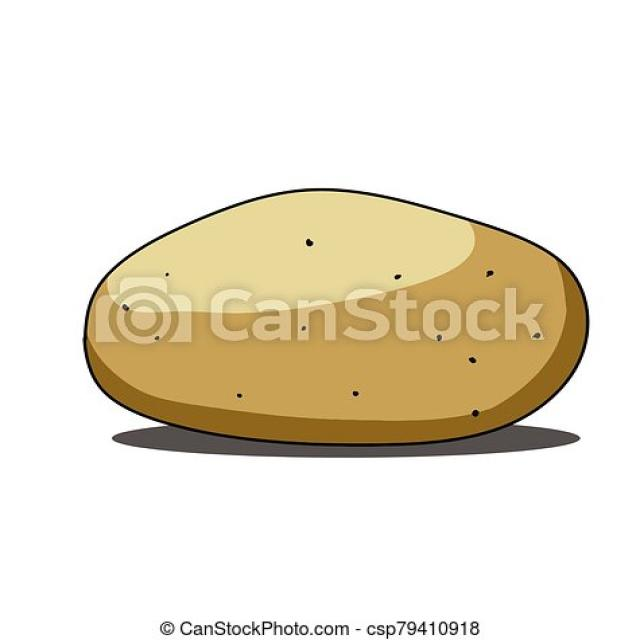potato: (82, 190, 589, 446)
